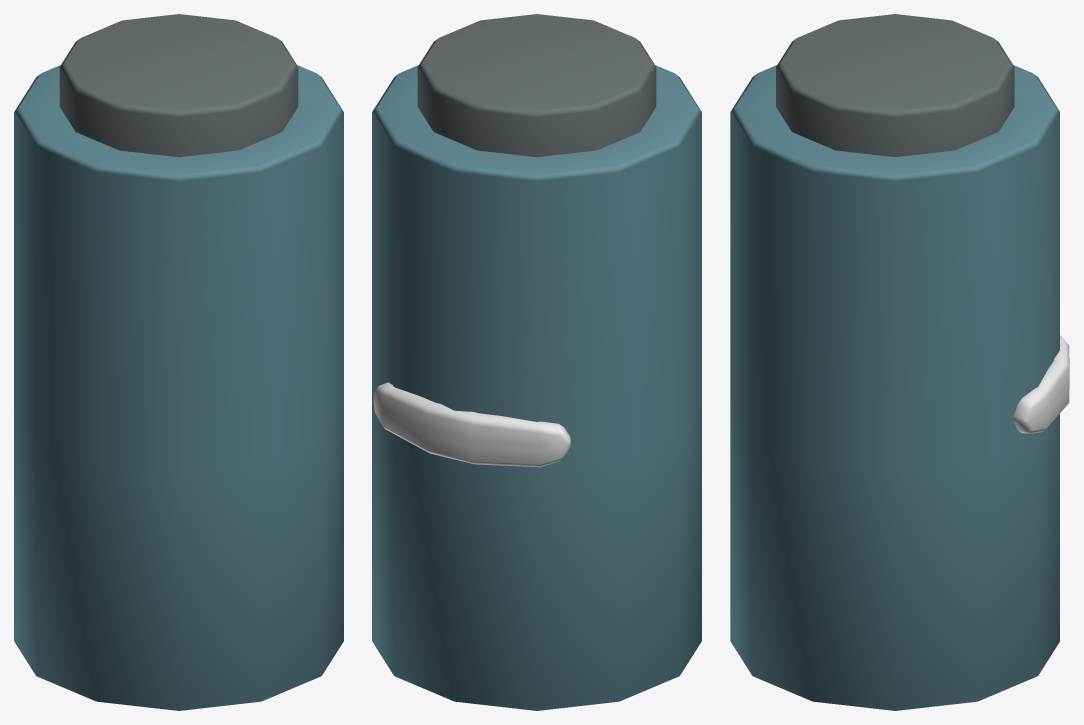
File: bootle.fbx
The picture shows the model from 3 angles, left to right: view 1: azimuth 30°, elevation 25°; view 2: azimuth 150°, elevation 25°; view 3: azimuth 270°, elevation 25°; orthographic projection.
Parts seen in each view (by area): view 1: bootle; view 2: bootle; view 3: bootle.
Part boxes in pixels (x1,y1,x2,y2): bootle: (14, 14, 343, 710); bootle: (372, 14, 701, 710); bootle: (730, 14, 1069, 710).
Size of the model in its own units: 0.7961 by 1.54 by 0.8188.
